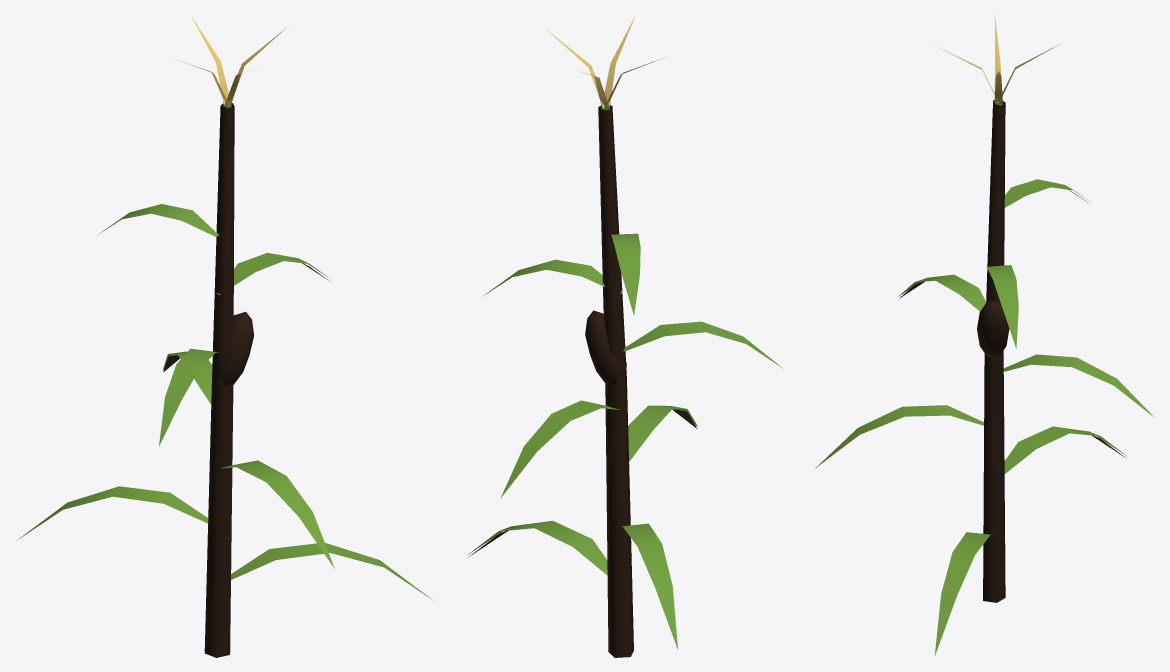
Rendered from crop_maize.glb.
3 views of the same model, side by side, from view 1: azimuth 30°, elevation 25°; view 2: azimuth 150°, elevation 25°; view 3: azimuth 270°, elevation 25° (orthographic). The views are drawn at different scales.
Parts seen in each view (by area): view 1: crop_maize_outline, crop_maize; view 2: crop_maize_outline, crop_maize; view 3: crop_maize_outline, crop_maize.
Part boxes in pixels (x1,y1,x2,y2): crop_maize_outline: (163,103,330,657); crop_maize: (16,16,433,600); crop_maize_outline: (468,105,697,657); crop_maize: (468,16,783,649); crop_maize_outline: (899,100,1126,602); crop_maize: (815,14,1154,655).
Size of the model in its own units: 1.22 by 2.23 by 1.23.
